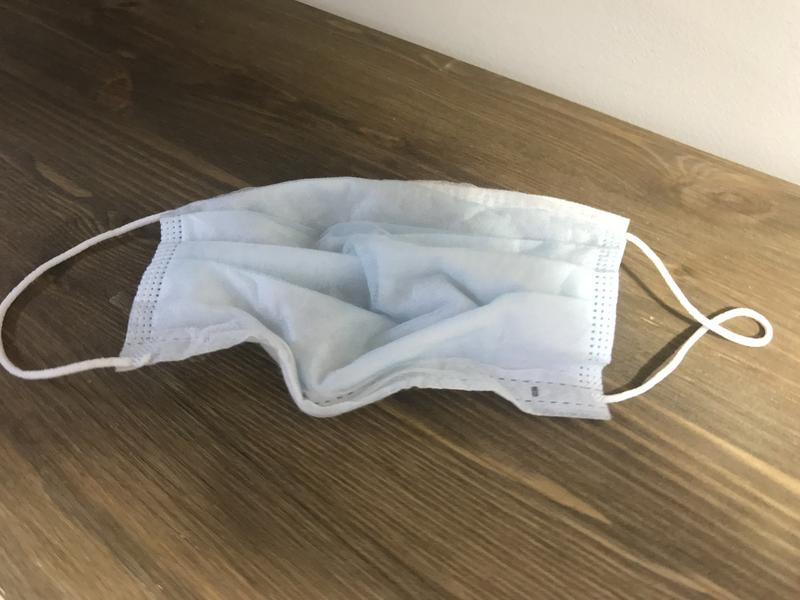medical_mask: (1, 175, 774, 422)
